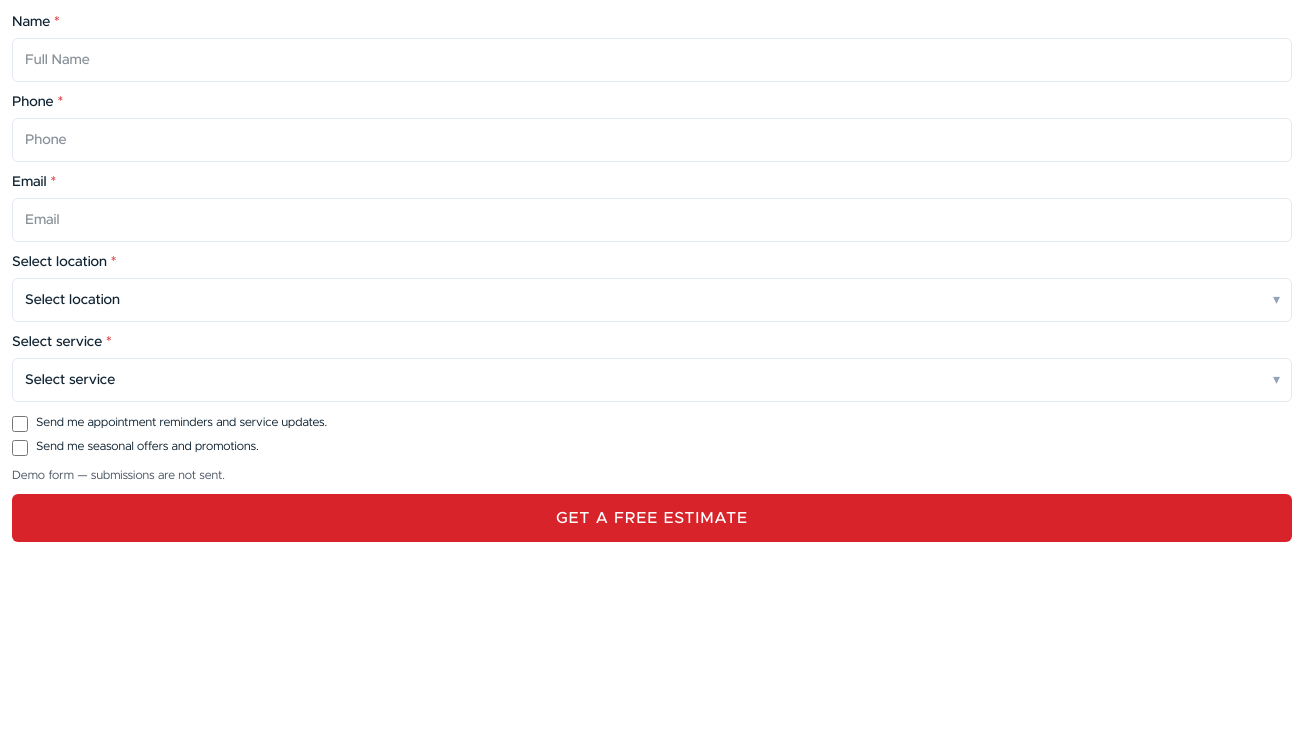
Test: EstimateForm › surfaces an error message on service error and preserves entered values
Type "Jane Homeowner" into the field labelled "Name *" at (652, 60), box [12,38,1292,82]
Type "(555) 010-0100" into the field labelled "Phone *" at (652, 140), box [12,118,1292,162]
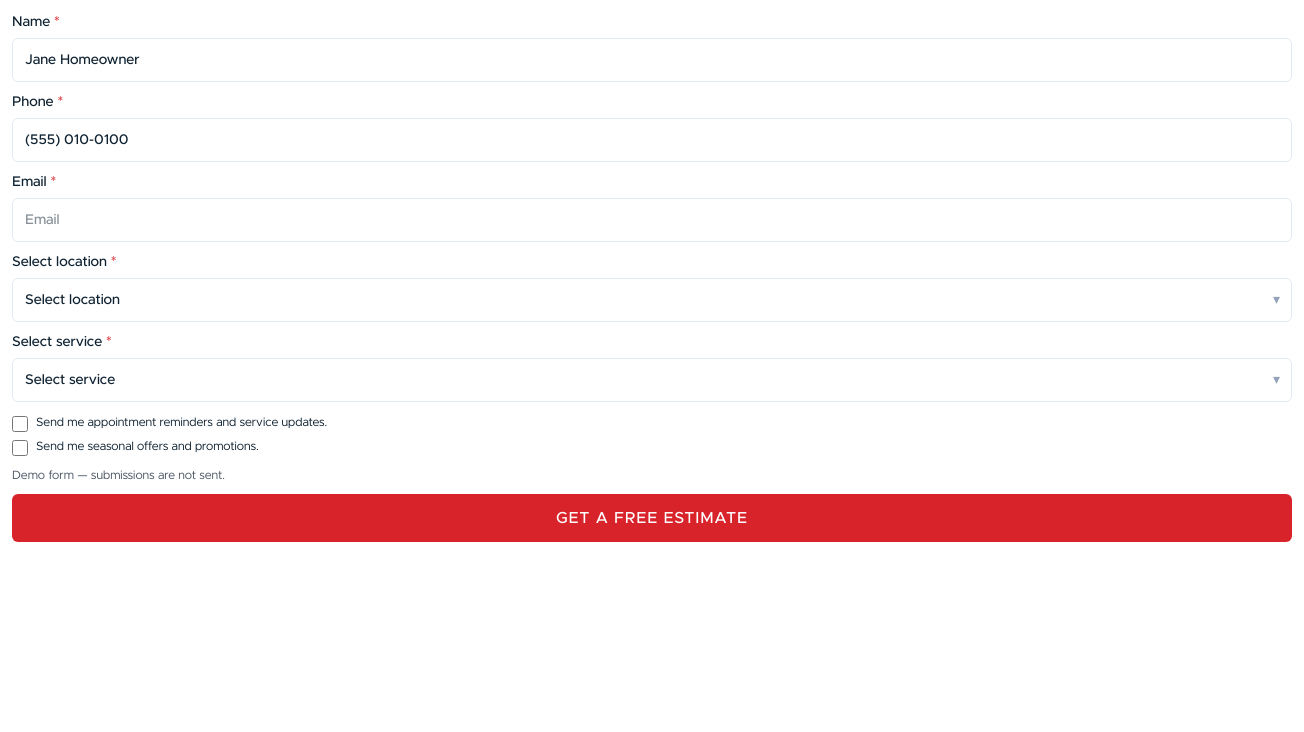
Type "jane@example.com" into the field labelled "Email *" at (652, 220), box [12,198,1292,242]
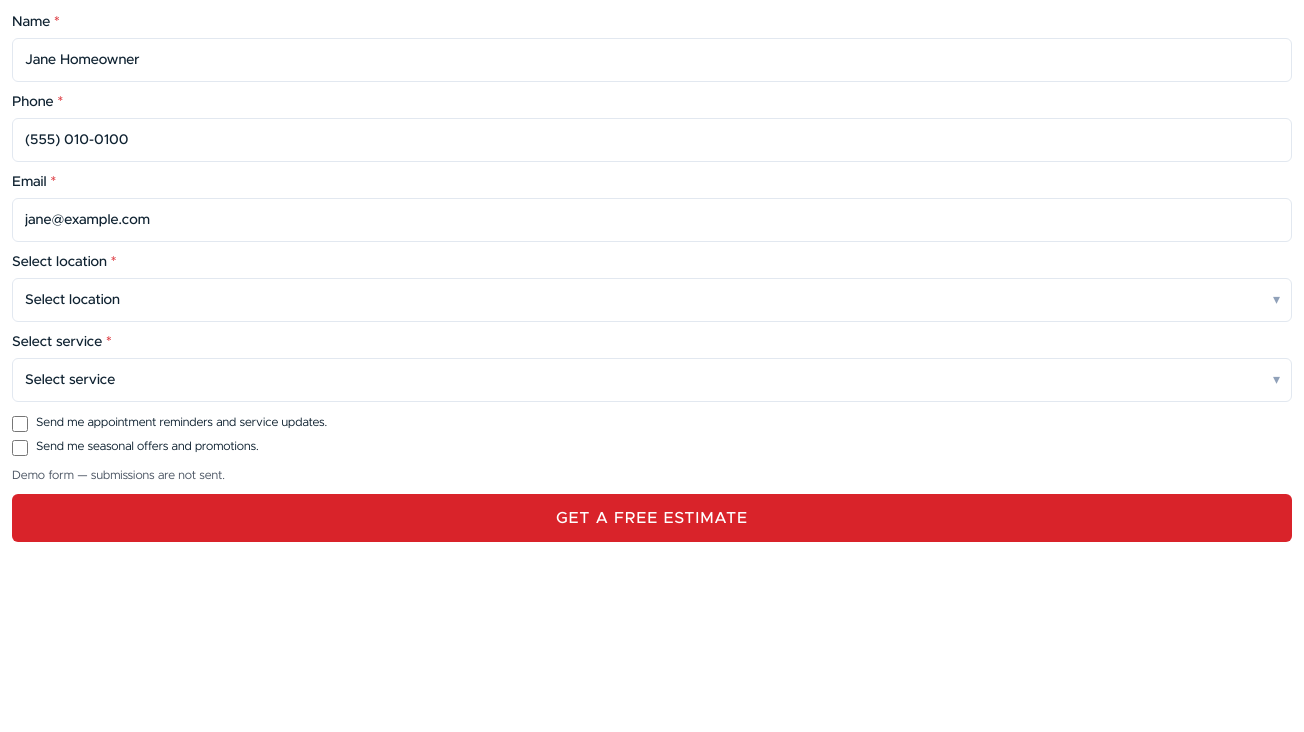
Select "Nashville Area" in the dropdown labelled "Select location *" at (652, 300), box [12,278,1292,322]
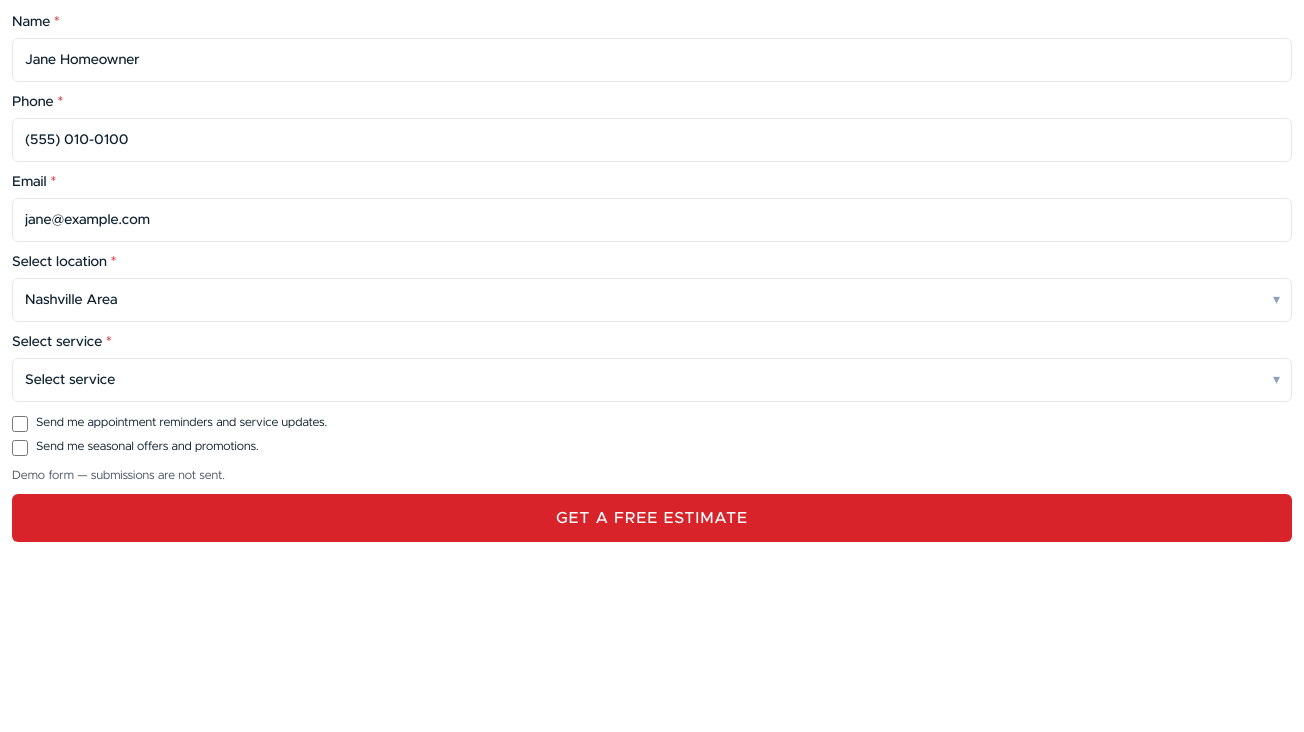
Select "Roofing" in the dropdown labelled "Select service *" at (652, 380), box [12,358,1292,402]
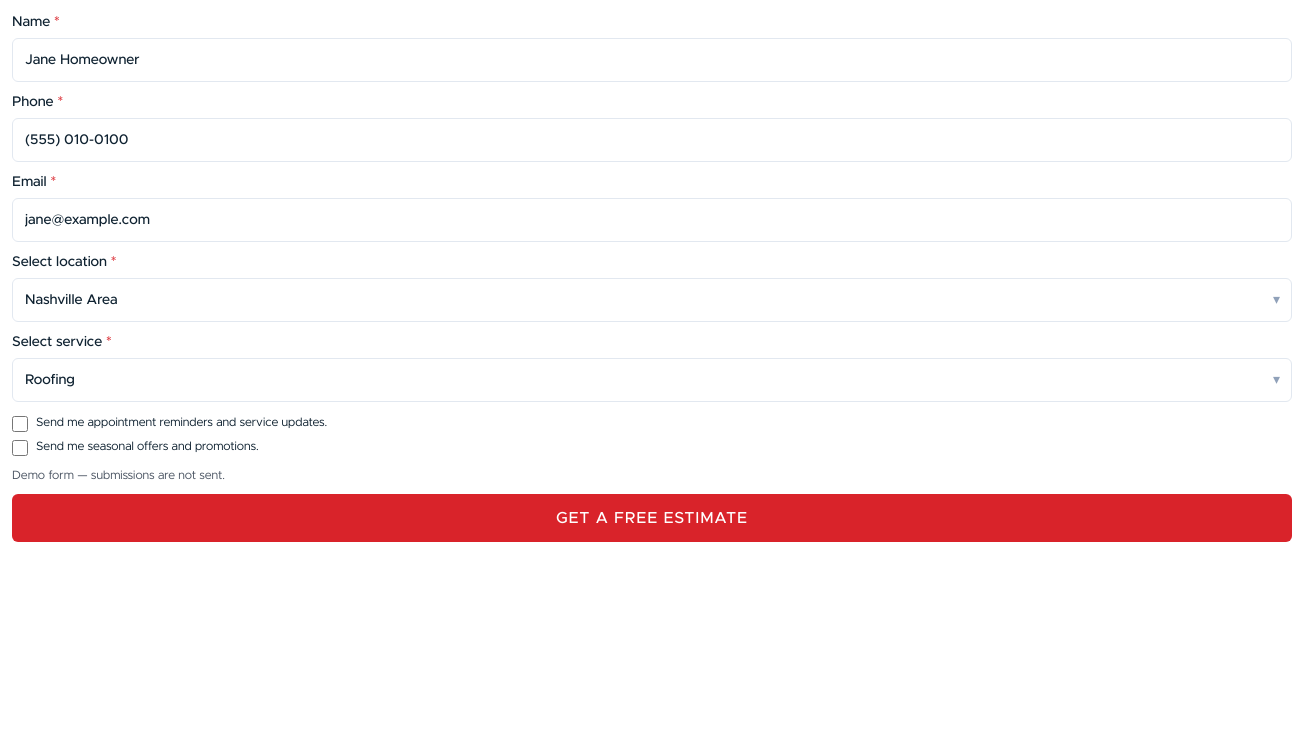
Click the button "Get a FREE estimate" at (652, 518), box [12,494,1292,542]
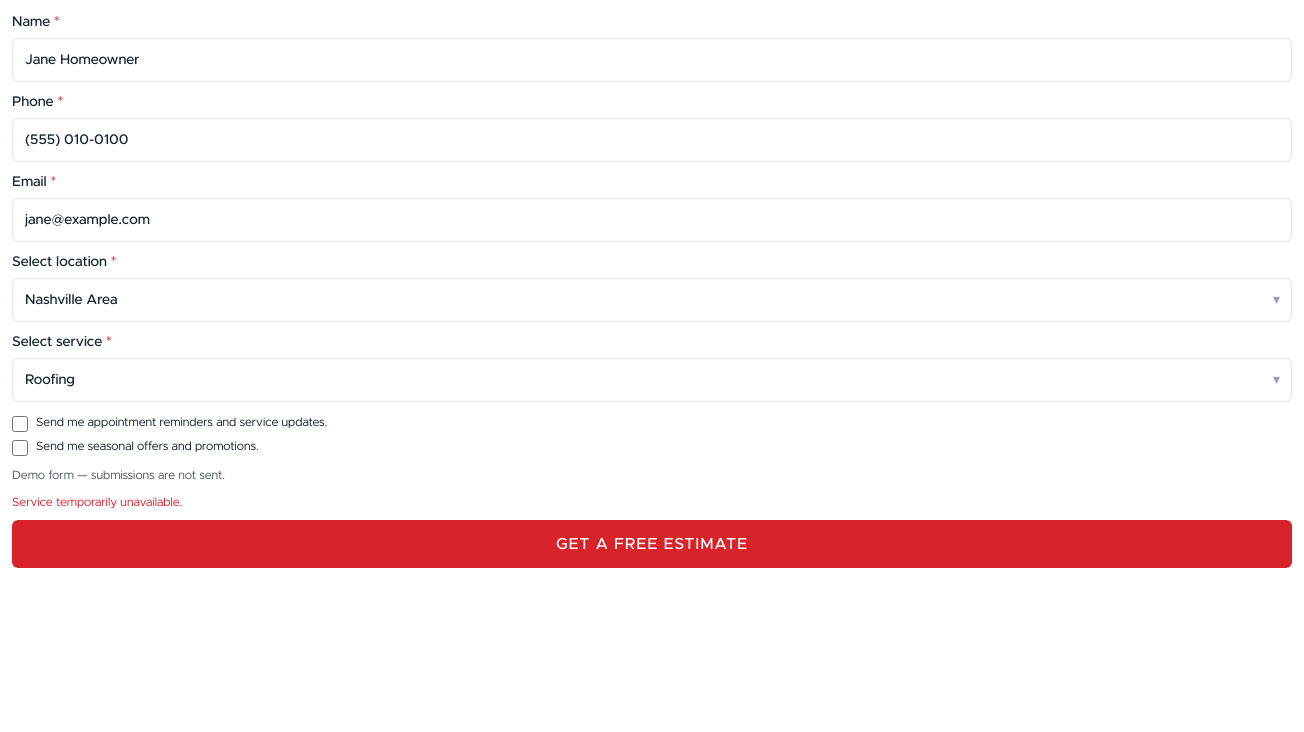
Check: the text "Service temporarily unavailable." is shown, box [12,496,182,508]
Click the button "Get a FREE estimate" at (652, 544), box [12,520,1292,568]
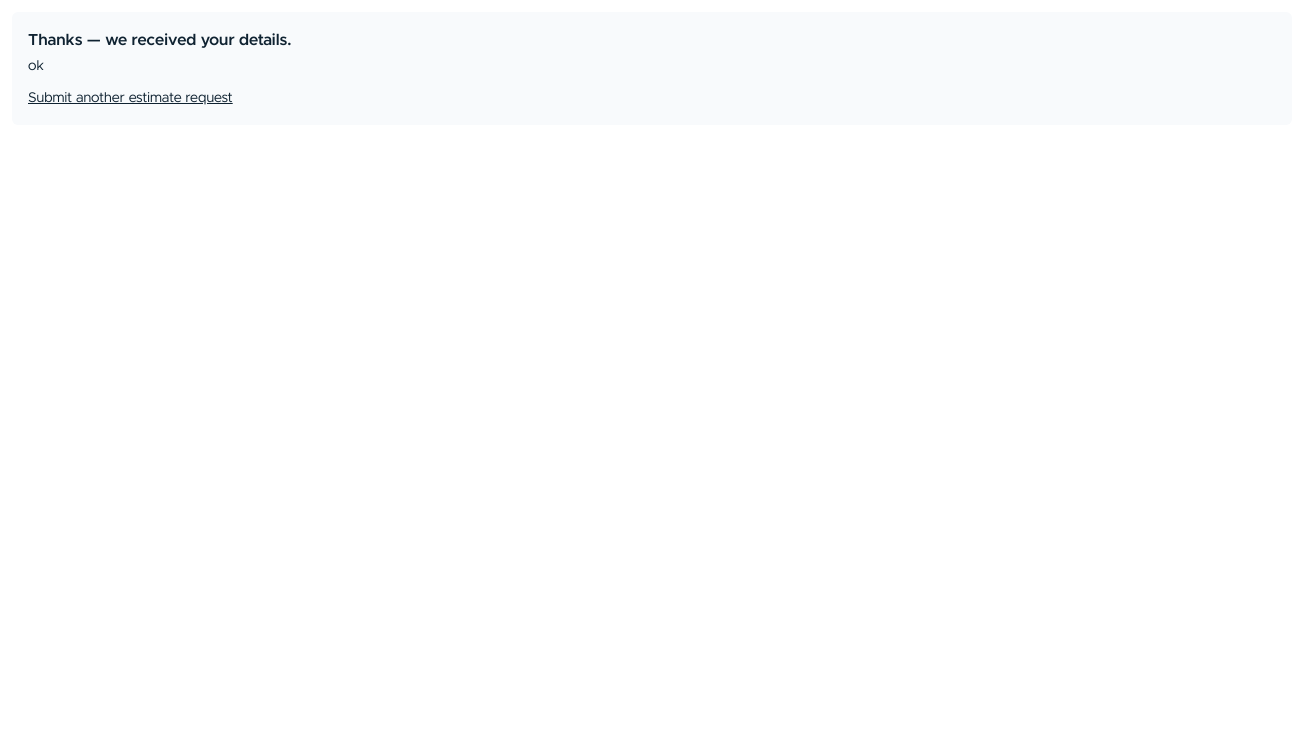
Check: the text "Thanks — we received your details." is shown, box [28,32,291,48]
